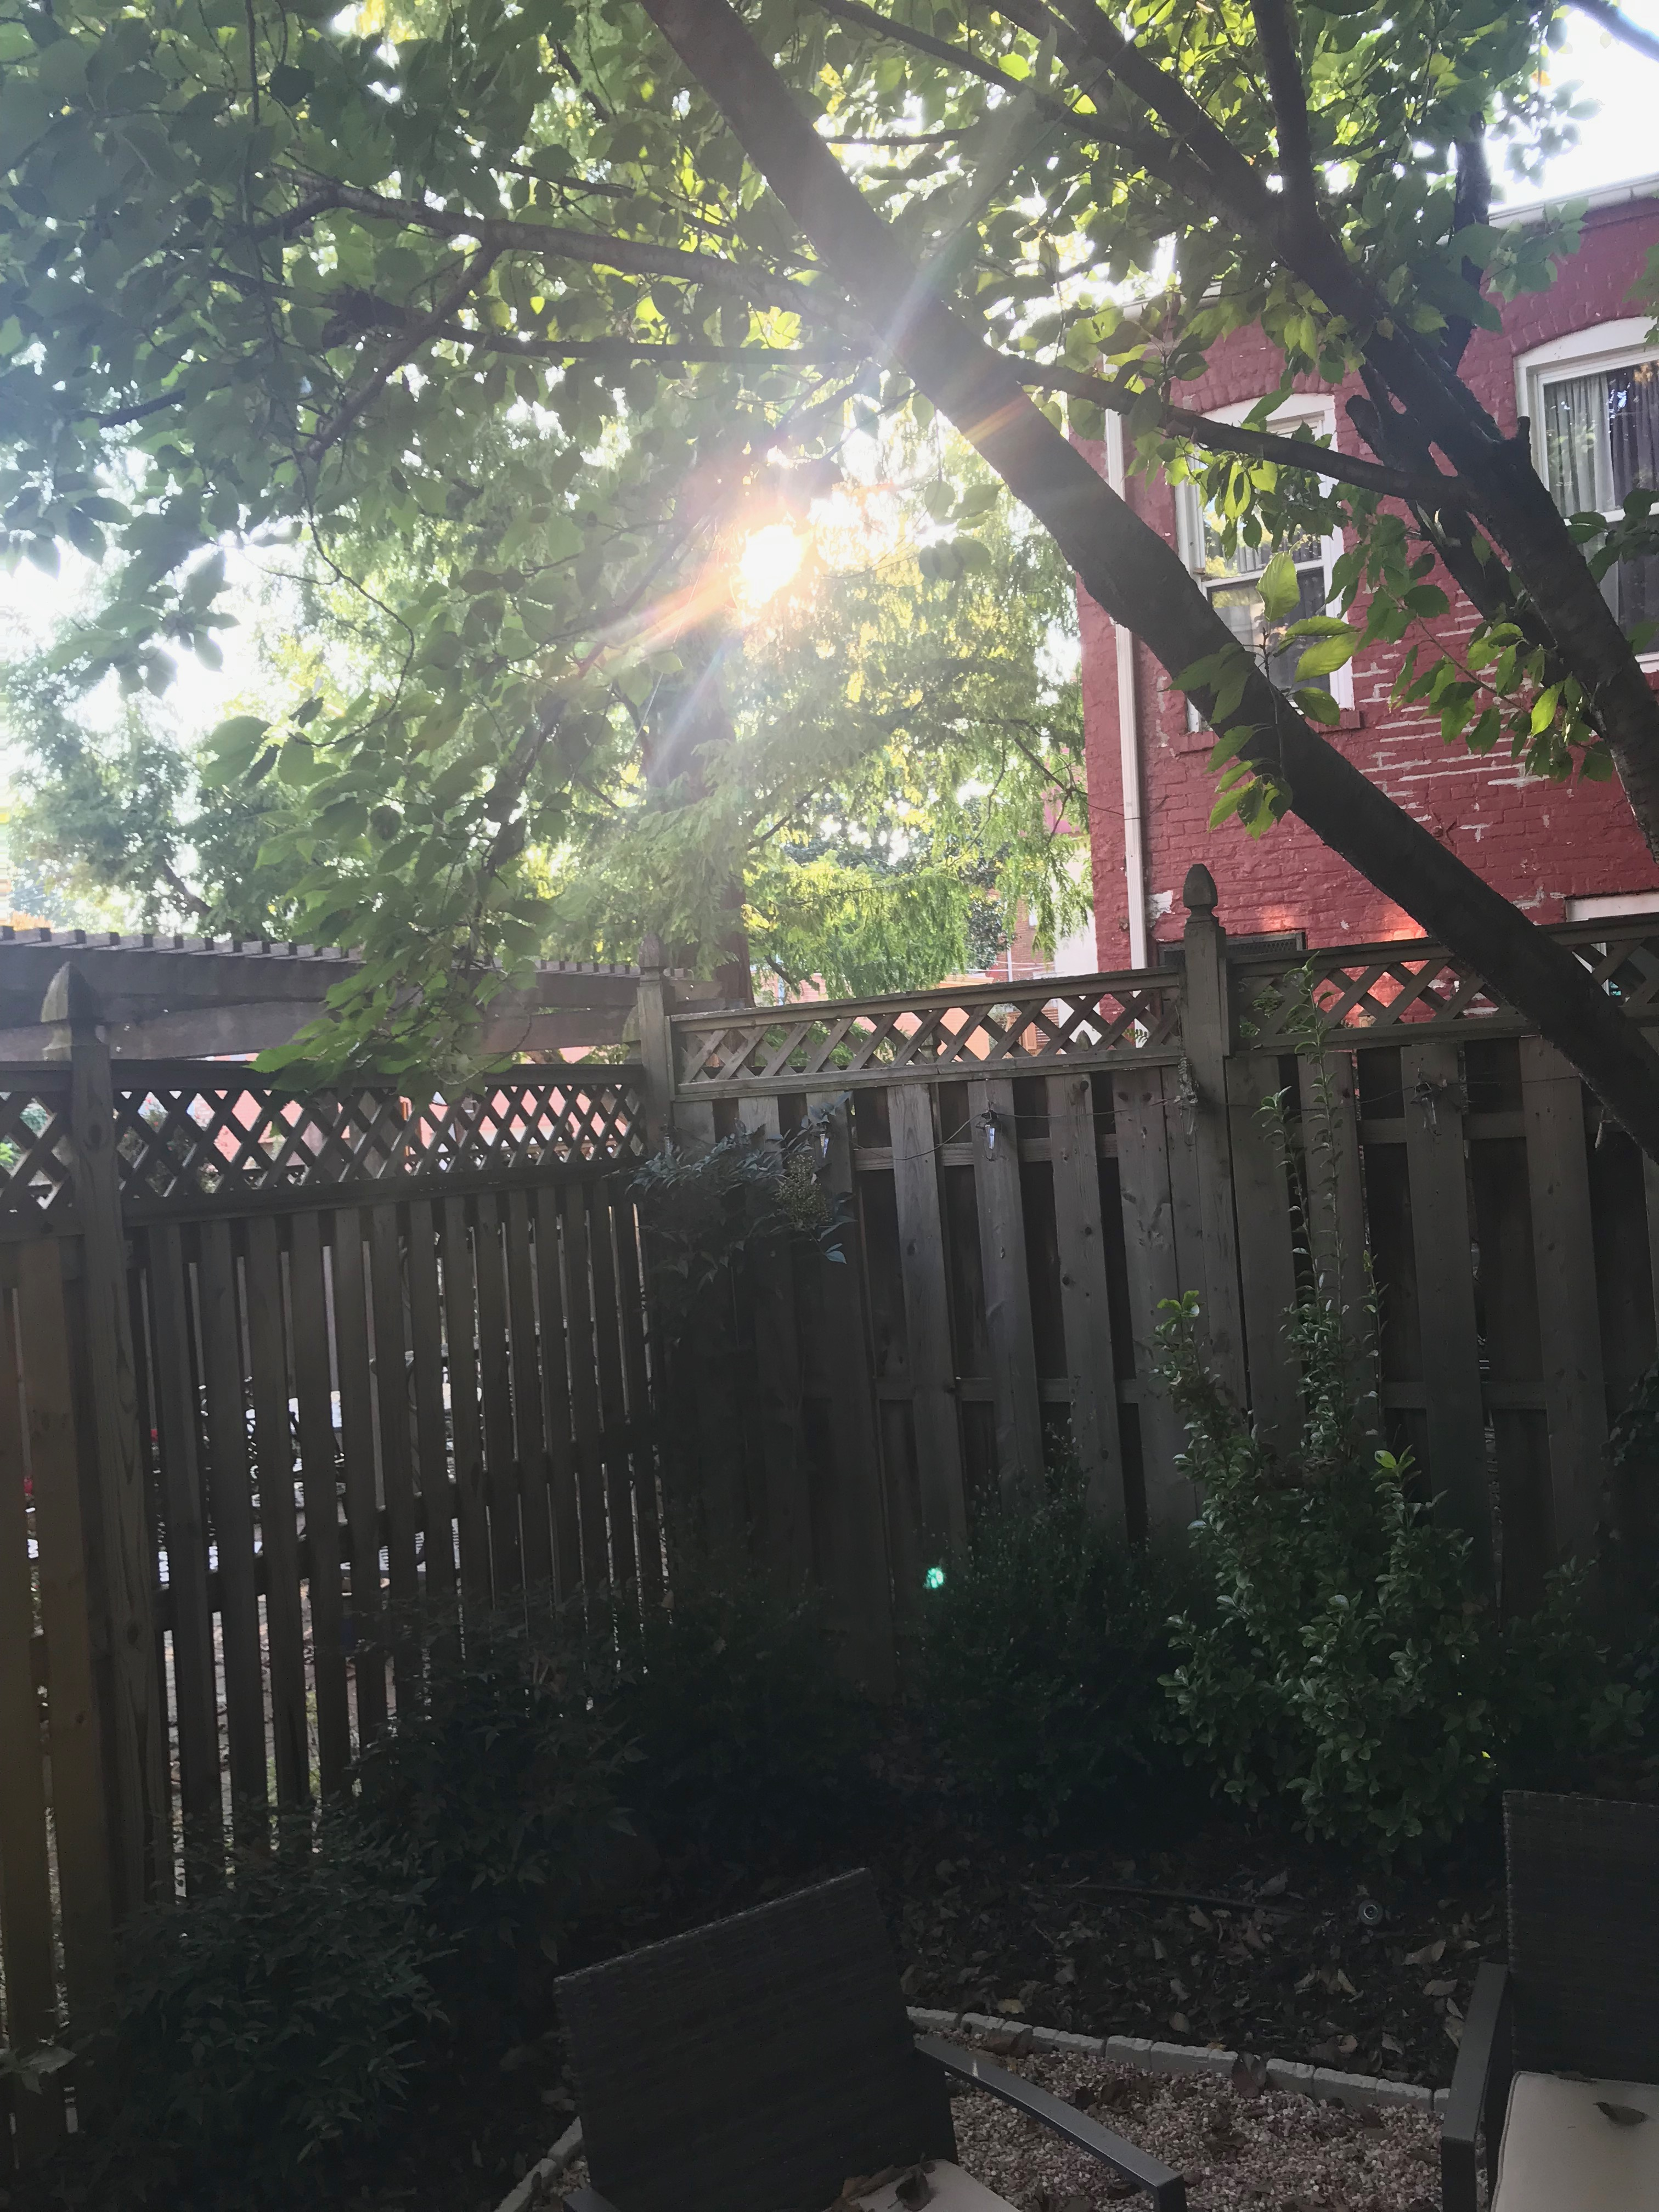flare: (922, 1564, 948, 1592)
